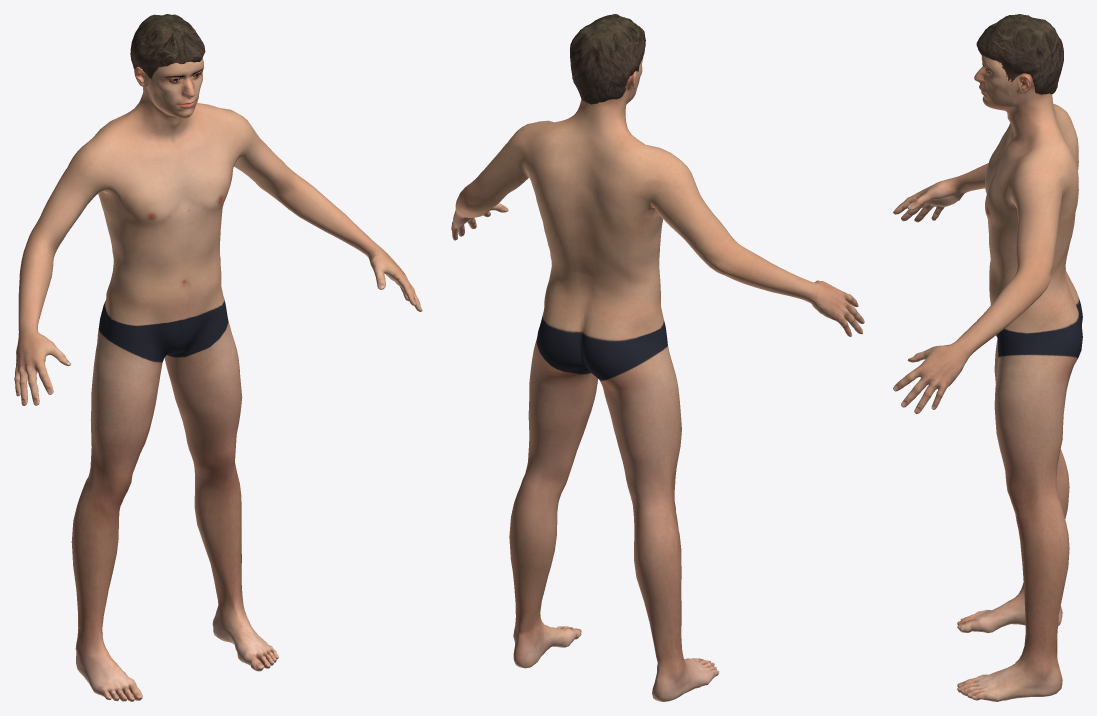
The model's file is body-male.glb.
The picture shows the model from 3 angles, left to right: view 1: azimuth 30°, elevation 25°; view 2: azimuth 150°, elevation 25°; view 3: azimuth 270°, elevation 25°; orthographic projection.
Visible parts, largest first — view 1: body, hair; view 2: body, hair; view 3: body, hair.
Boxes of the visible parts, <box> form: body: <box>14,58,422,701</box>; hair: <box>130,14,205,78</box>; body: <box>451,57,864,701</box>; hair: <box>570,14,645,104</box>; body: <box>893,55,1082,701</box>; hair: <box>976,14,1063,94</box>.
Size of the model in its own units: 1.16 by 1.8 by 0.4808.
Materials: 5 (5 with a texture image).
